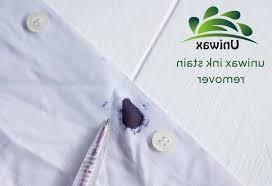ink: (120, 99, 144, 132)
